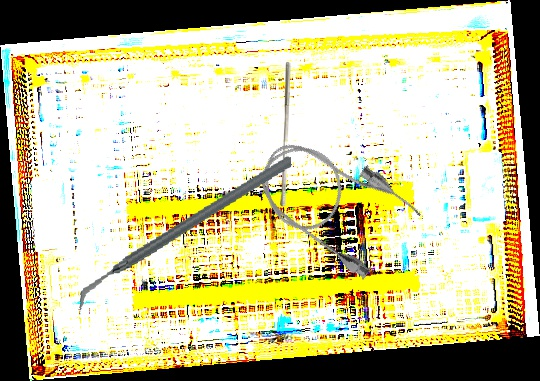Cannula: (242, 117, 427, 287)
Chopper: (59, 155, 309, 311)
Pusher: (280, 61, 291, 207)
